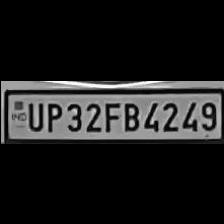2: (82, 98, 102, 132), (158, 97, 178, 130)
3: (62, 99, 82, 131)
4: (140, 97, 160, 130), (178, 98, 198, 130)
9: (196, 96, 218, 130)
B: (119, 99, 139, 131)
F: (101, 98, 119, 132)
P: (42, 99, 62, 131)
U: (23, 98, 43, 130)
